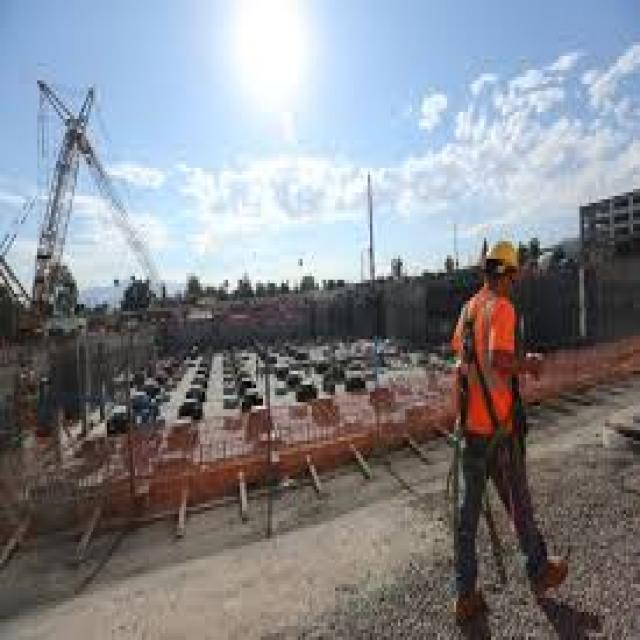Reflective-Jacket: (449, 286, 528, 462)
Safety-Helmet: (472, 227, 528, 287)
